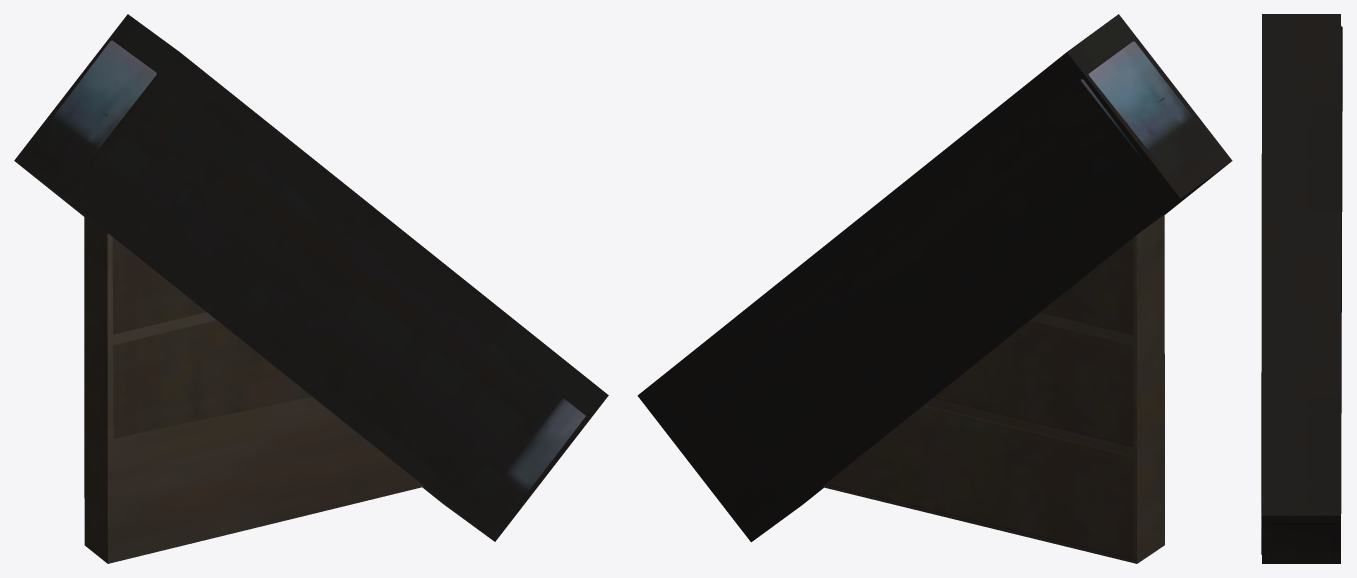
File: ashwood_wall_roof_45.glb
3 renders of one model, left to right at view 1: azimuth 30°, elevation 25°; view 2: azimuth 150°, elevation 25°; view 3: azimuth 270°, elevation 25°, orthographic. The views are drawn at different scales.
Parts seen in each view (by area): view 1: geometry_0; view 2: geometry_0; view 3: geometry_0.
Part boxes in pixels (x1,y1,x2,y2): geometry_0: (14, 14, 608, 563); geometry_0: (637, 14, 1232, 563); geometry_0: (1261, 14, 1342, 563).
Size of the model in its own units: 2.53 by 2.53 by 0.4321.
Materials: 1 (1 with a texture image).
